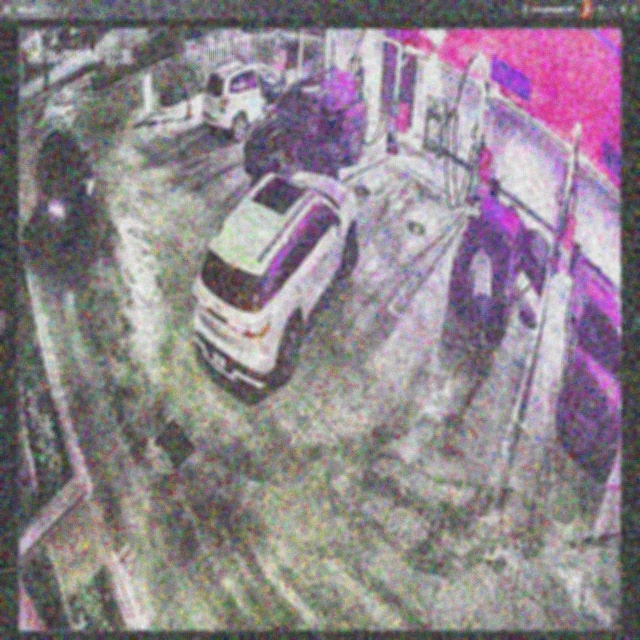Car: (195, 171, 359, 402), (244, 63, 366, 189), (456, 191, 546, 337)
